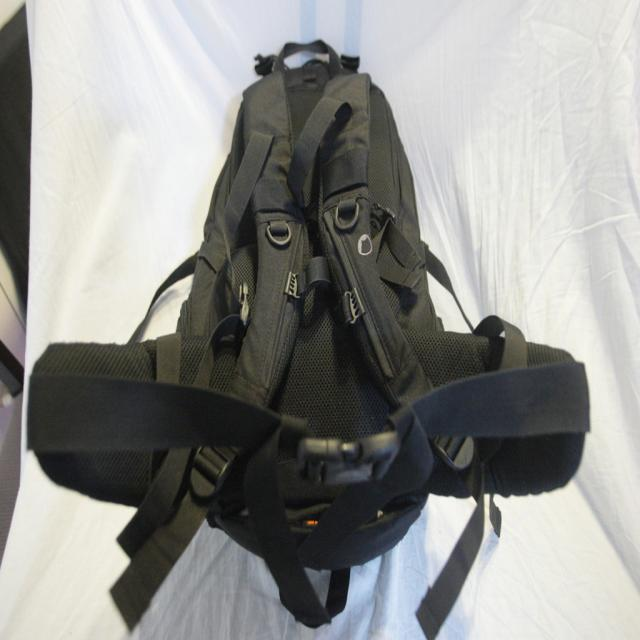backpack: (33, 40, 589, 562)
